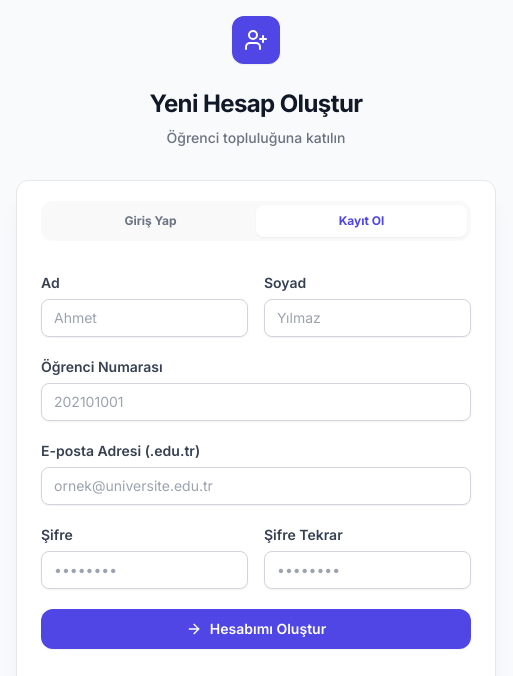
Test: Register Component › shows error if passwords do not match
Type "John" into the field with placeholder "Ahmet" at (144, 318), box x1=41 y1=299 x2=248 y2=337
Type "Doe" into the field with placeholder "Yılmaz" at (368, 318), box x1=264 y1=299 x2=471 y2=337
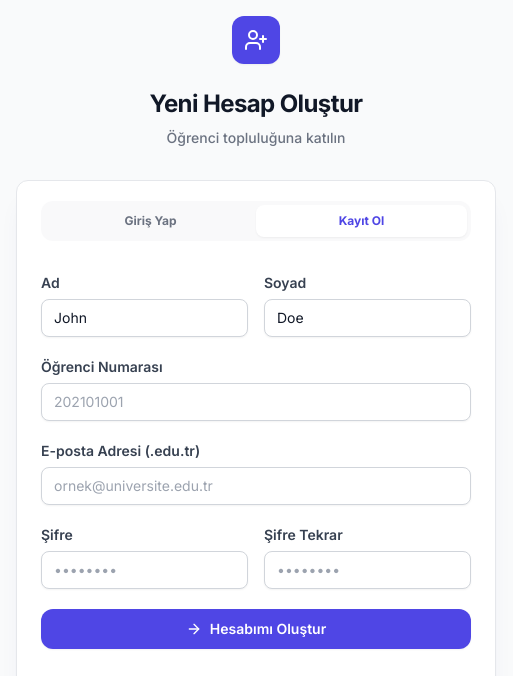
Type "123" into the field with placeholder "202101001" at (256, 402), box x1=41 y1=383 x2=471 y2=421
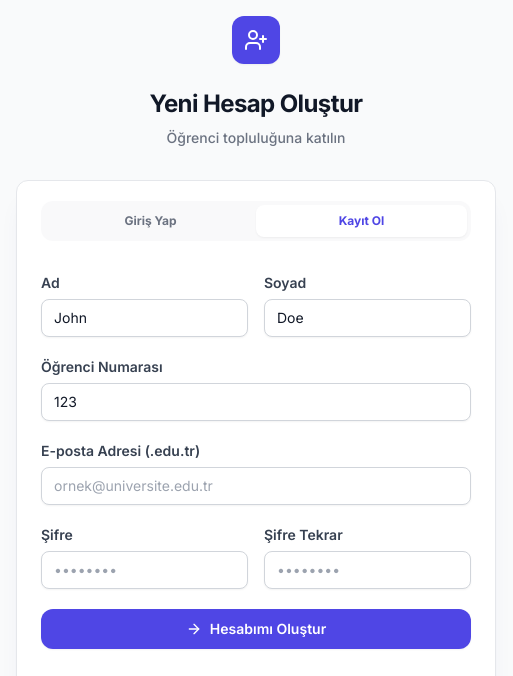
Type "test@test.com" into the field with placeholder "ornek@universite.edu.tr" at (256, 486), box x1=41 y1=467 x2=471 y2=505
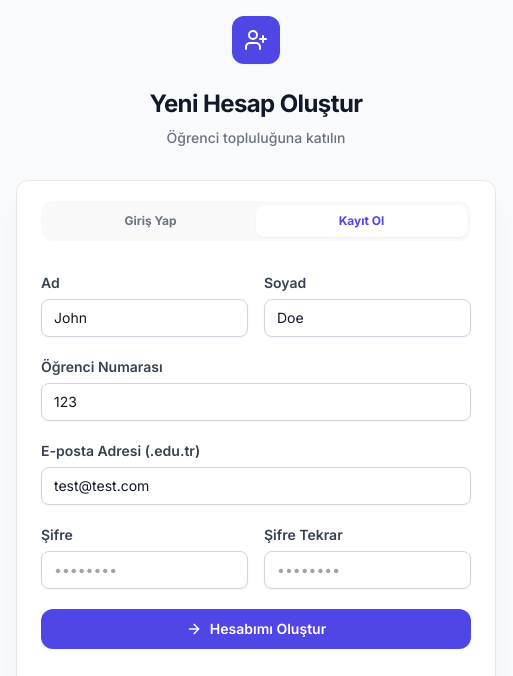
Type "password123" into the 1st password field with placeholder "••••••••" at (144, 570), box x1=41 y1=551 x2=248 y2=589
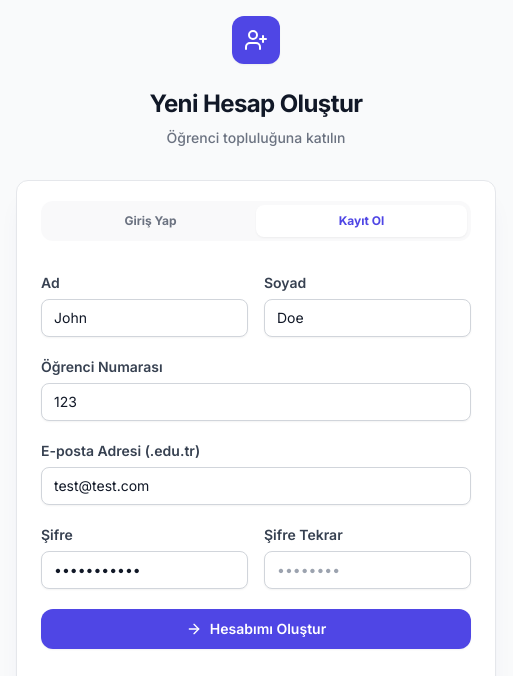
Type "differentpassword" into the password field with placeholder "••••••••" at (368, 570), box x1=264 y1=551 x2=471 y2=589
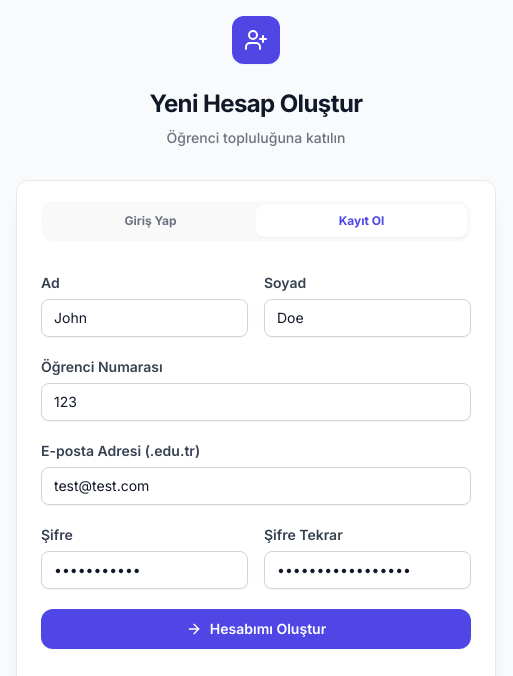
Submit the form with placeholder "ornek@universite.edu.tr", box x1=41 y1=273 x2=471 y2=649
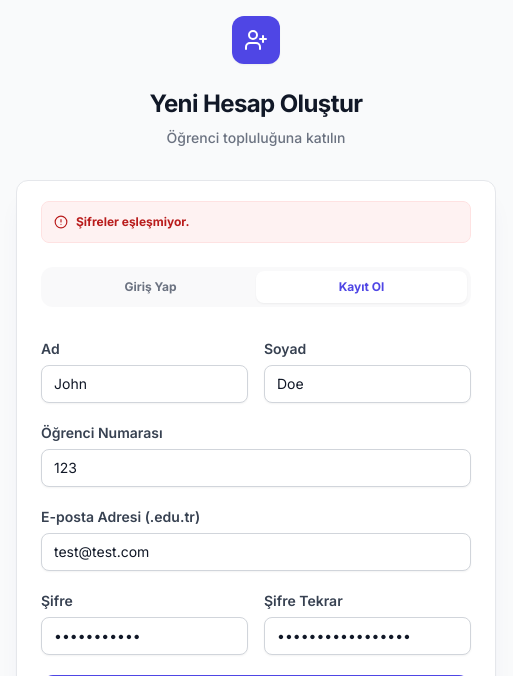
expect the text "Şifreler eşleşmiyor." is shown: met, box x1=41 y1=201 x2=471 y2=243
